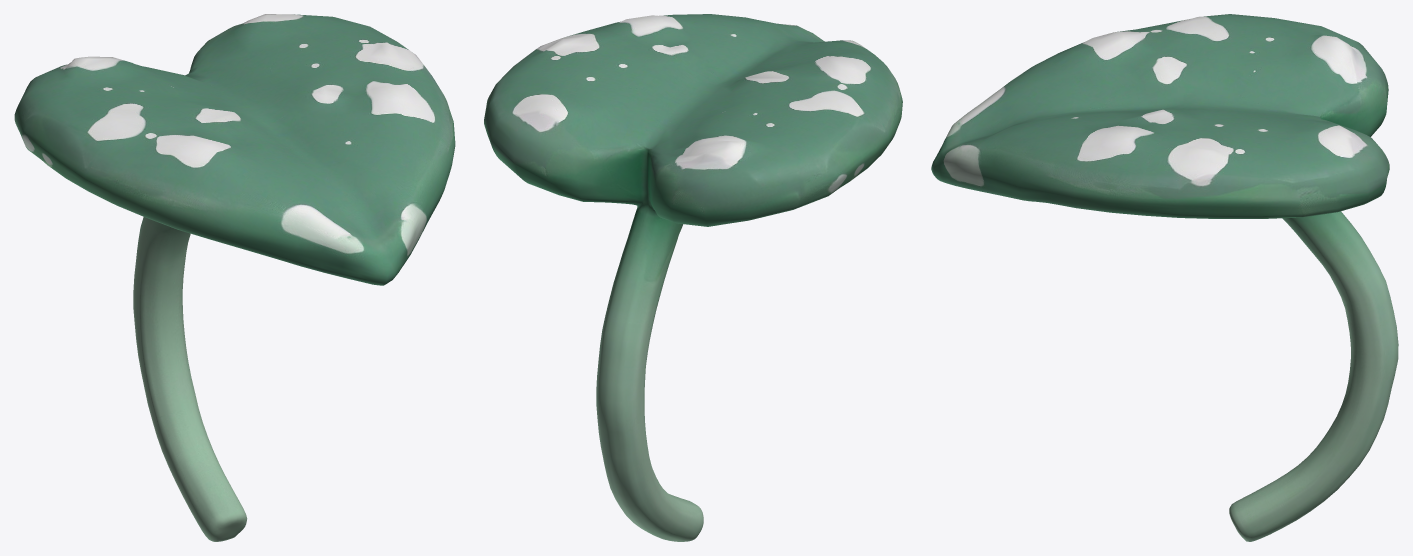
The model's file is pothos_silver_droplet.glb.
3 renders of one model, left to right at view 1: azimuth 30°, elevation 25°; view 2: azimuth 150°, elevation 25°; view 3: azimuth 270°, elevation 25°, orthographic. The views are drawn at different scales.
Bounding box in the file's own units: 1.62 × 2 × 1.86.
Materials: 1 (1 with a texture image).
